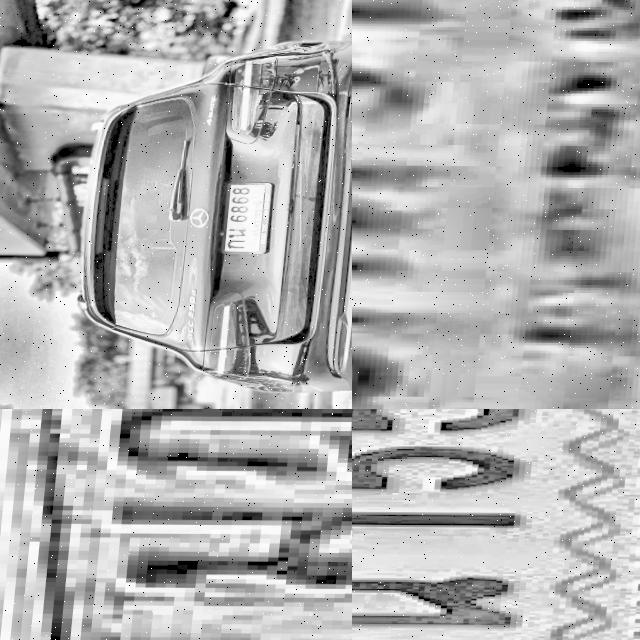license-plate: (352, 0, 640, 409), (0, 409, 352, 640), (352, 409, 640, 640), (227, 180, 279, 254)
